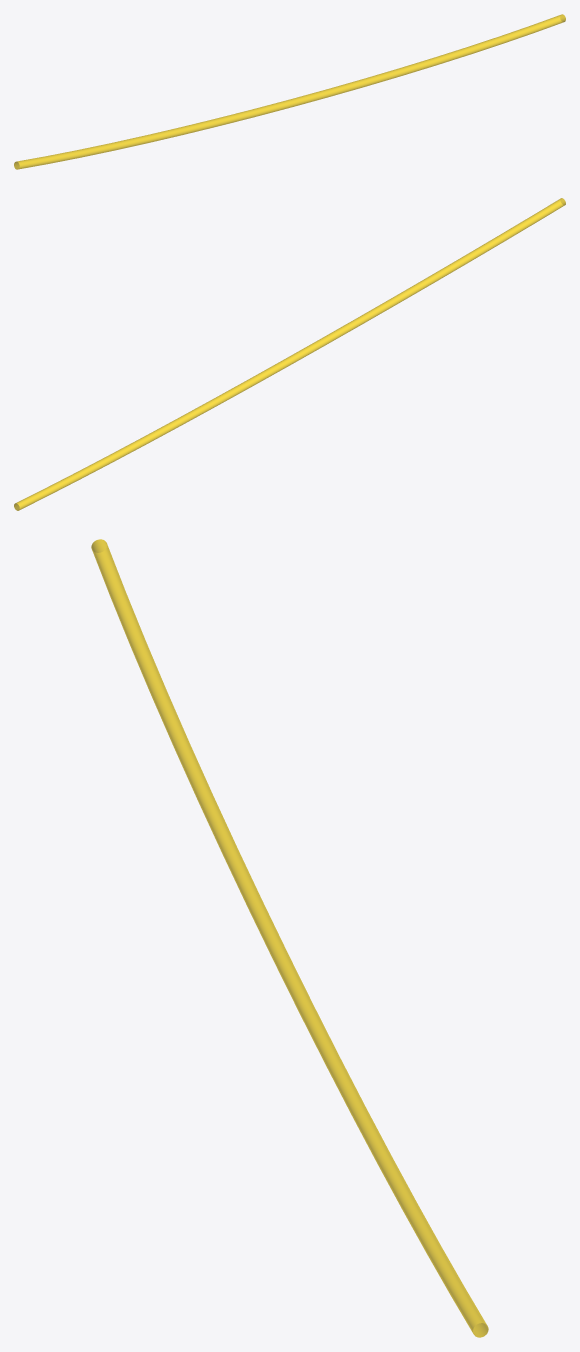
The model's file is Event_40932208_track_44.fbx.
3 views of the same model, one above another, from view 1: azimuth 30°, elevation 25°; view 2: azimuth 210°, elevation 25°; view 3: azimuth 270°, elevation 25° (orthographic). The views are drawn at different scales.
Visible parts, largest first — view 1: Model; view 2: Model; view 3: Model.
Boxes of the visible parts, x1,y1,x2,y2 form: Model: (14,14,565,169); Model: (14,198,565,510); Model: (91,539,488,1337).
Bounding box in the file's own units: 3.64 × 0.4663 × 0.972.
